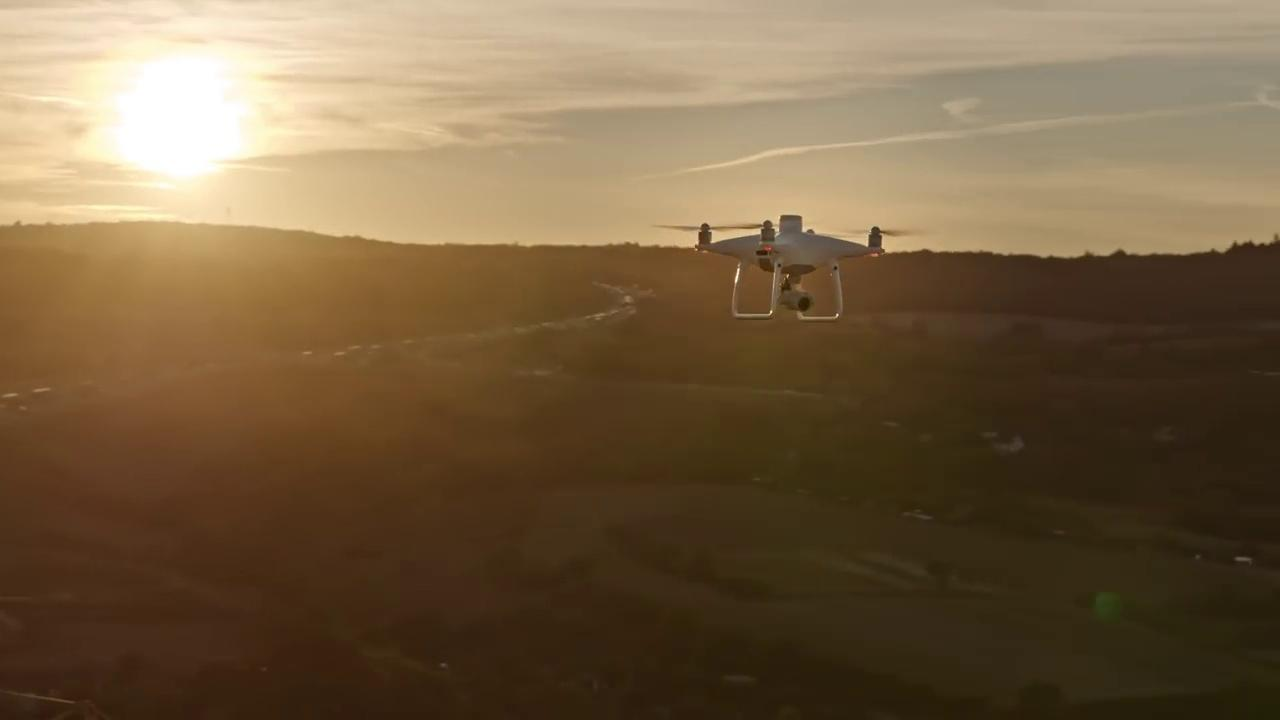drone: (649, 212, 927, 324)
